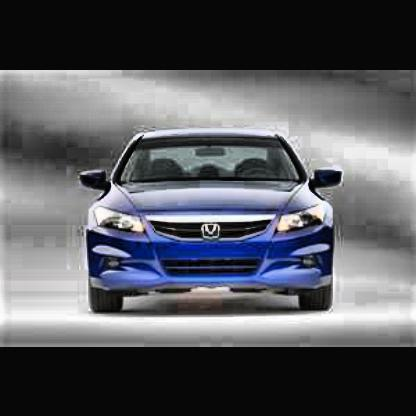Honda Accord Coupe 2012: (81, 131, 347, 319)
